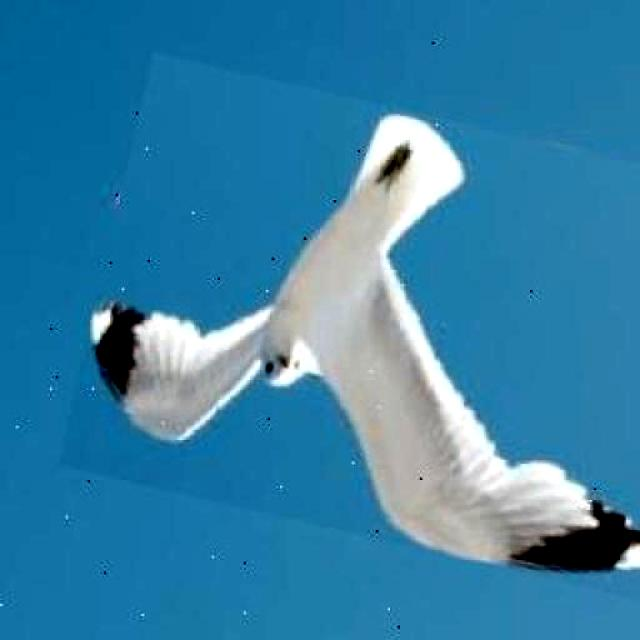airplane: (58, 51, 640, 602)
